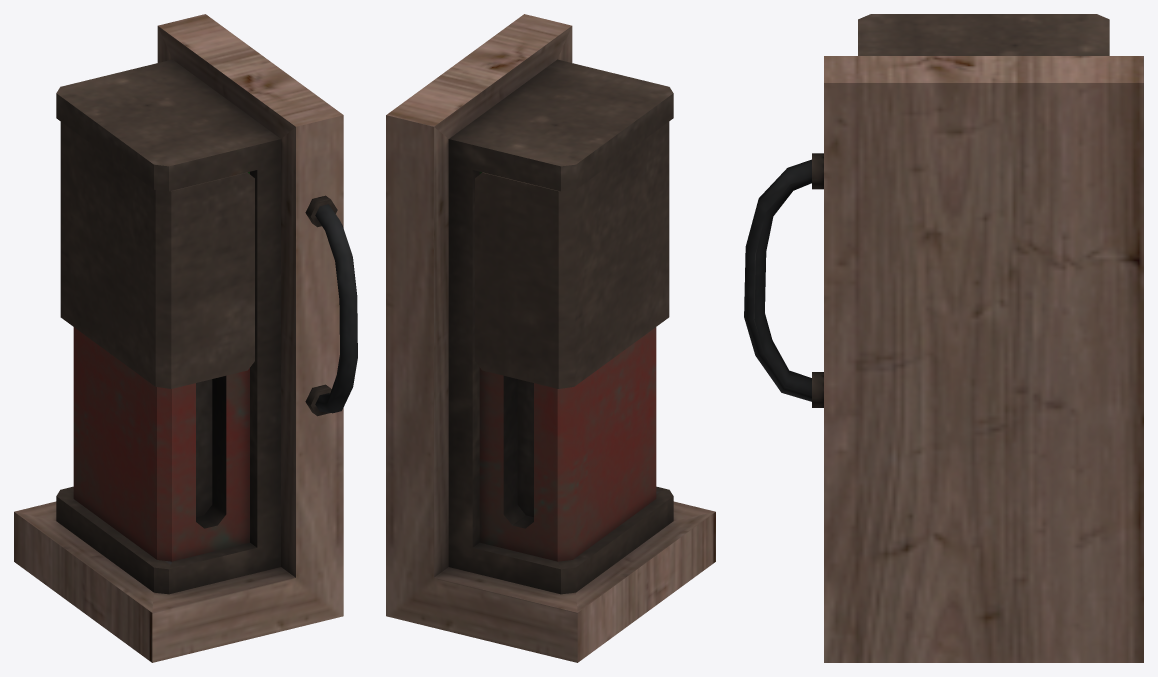
File: SM_StatusIndicator.FBX
3 views of the same model, side by side, from view 1: azimuth 30°, elevation 25°; view 2: azimuth 150°, elevation 25°; view 3: azimuth 270°, elevation 25° (orthographic). The views are drawn at different scales.
Visible parts, largest first — view 1: Box079, Object072; view 2: Box079, Object072; view 3: Box079.
Boxes of the visible parts, x1=… form: Box079: x1=14, y1=14, x2=357, y2=662; Object072: x1=60, y1=122, x2=254, y2=388; Box079: x1=386, y1=14, x2=715, y2=662; Object072: x1=475, y1=122, x2=669, y2=388; Box079: x1=744, y1=14, x2=1143, y2=662.
Size of the model in its own units: 4 by 10 by 6.25.
